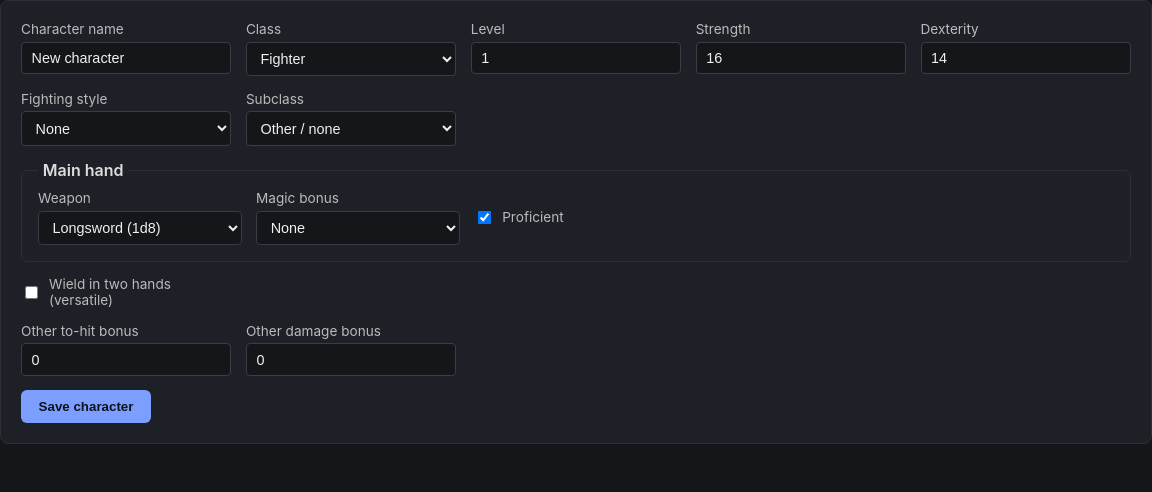
Scenario: CharacterForm › shows the server's error and keeps the form
Click the button "Save character".
click(86, 406)  # box x1=21 y1=390 x2=151 y2=423
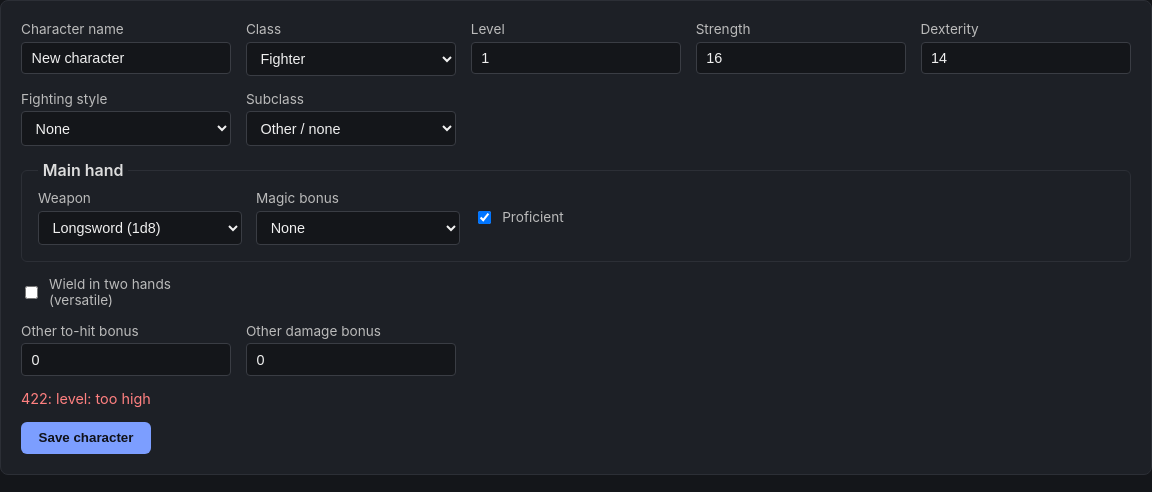
Expected: the text "422: level: too high" is shown, x1=21 y1=390 x2=151 y2=407
